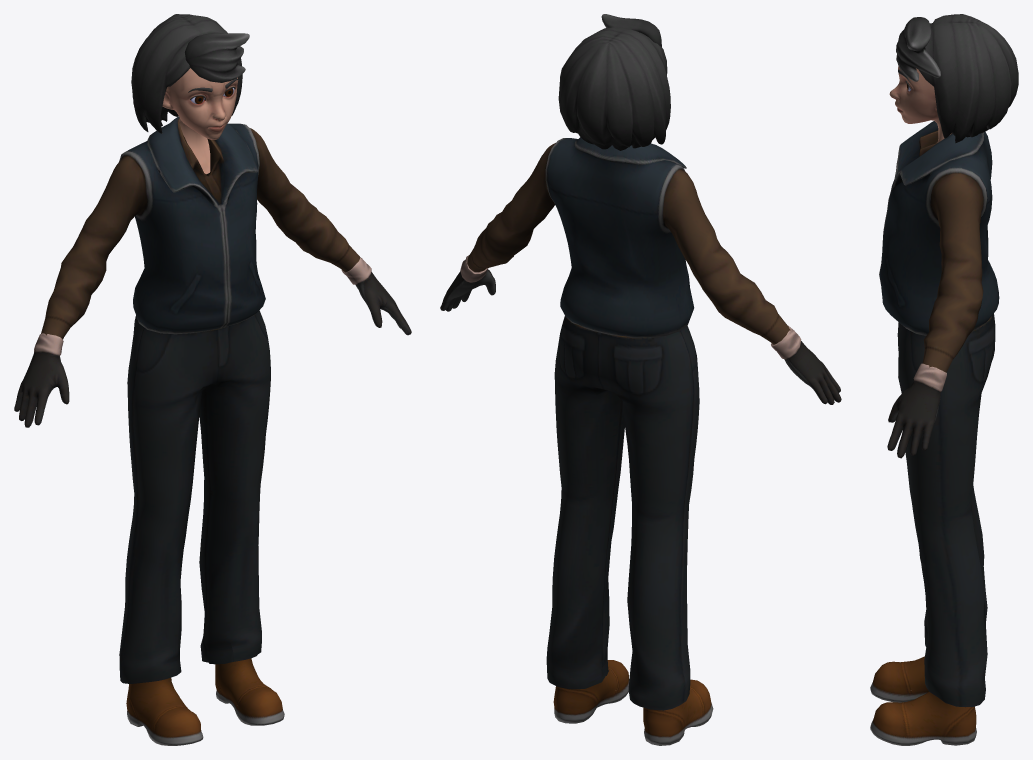
The model's file is Coino_Mesh.obj.
The picture shows the model from 3 angles, left to right: view 1: azimuth 30°, elevation 25°; view 2: azimuth 150°, elevation 25°; view 3: azimuth 270°, elevation 25°; orthographic projection.
Parts seen in each view (by area): view 1: Coino_Mesh_0; view 2: Coino_Mesh_0; view 3: Coino_Mesh_0.
Boxes of the visible parts, <box> form: Coino_Mesh_0: <box>14,14,411,745</box>; Coino_Mesh_0: <box>440,14,841,745</box>; Coino_Mesh_0: <box>870,14,1018,745</box>.
Size of the model in its own units: 1.06 by 1.81 by 0.3487.
Materials: 1 (1 with a texture image).
